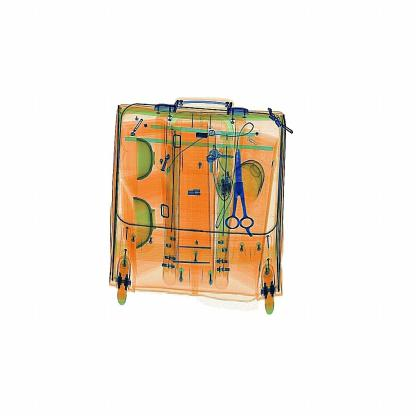gun: (220, 138, 259, 243)
